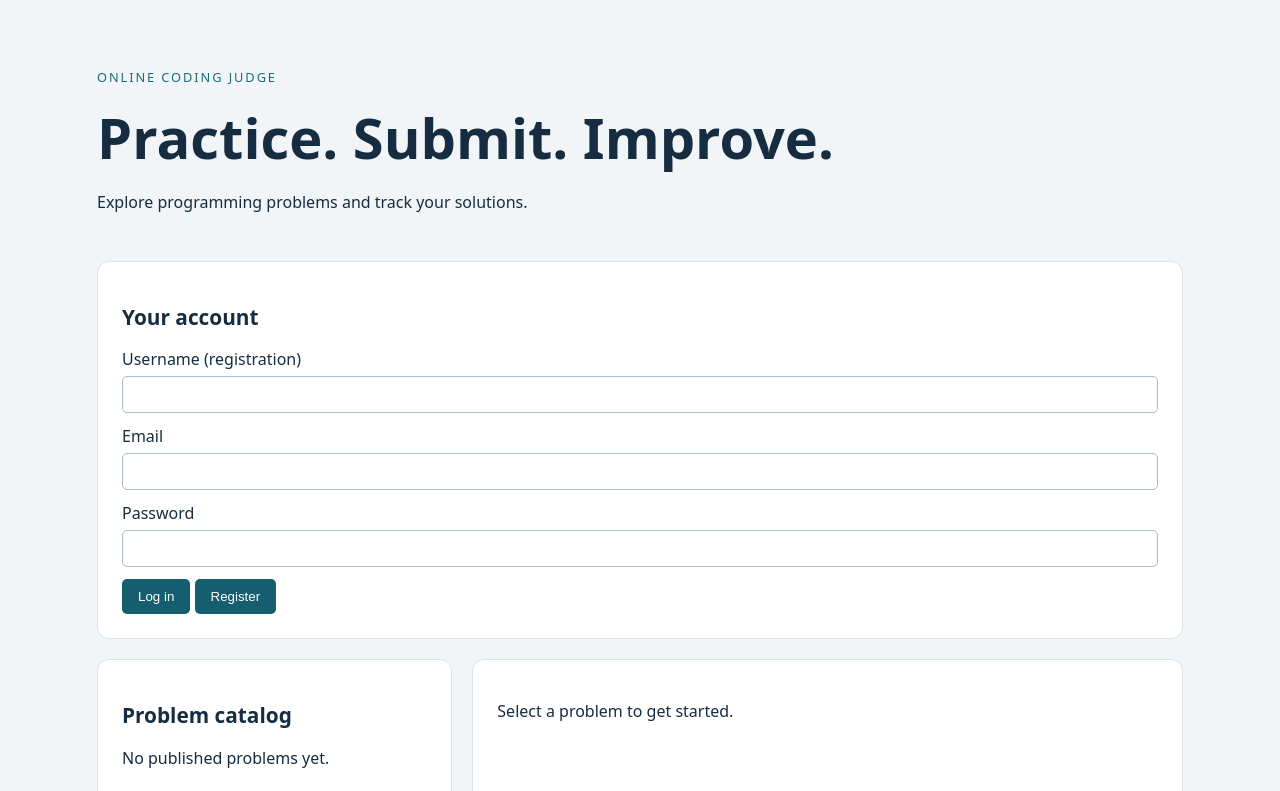
it: streams pending submission updates after login
The width and height of the screenshot is (1280, 791).
Type "alice@example.com" into the field labelled "Email" at (640, 472), box x1=122 y1=453 x2=1158 y2=490
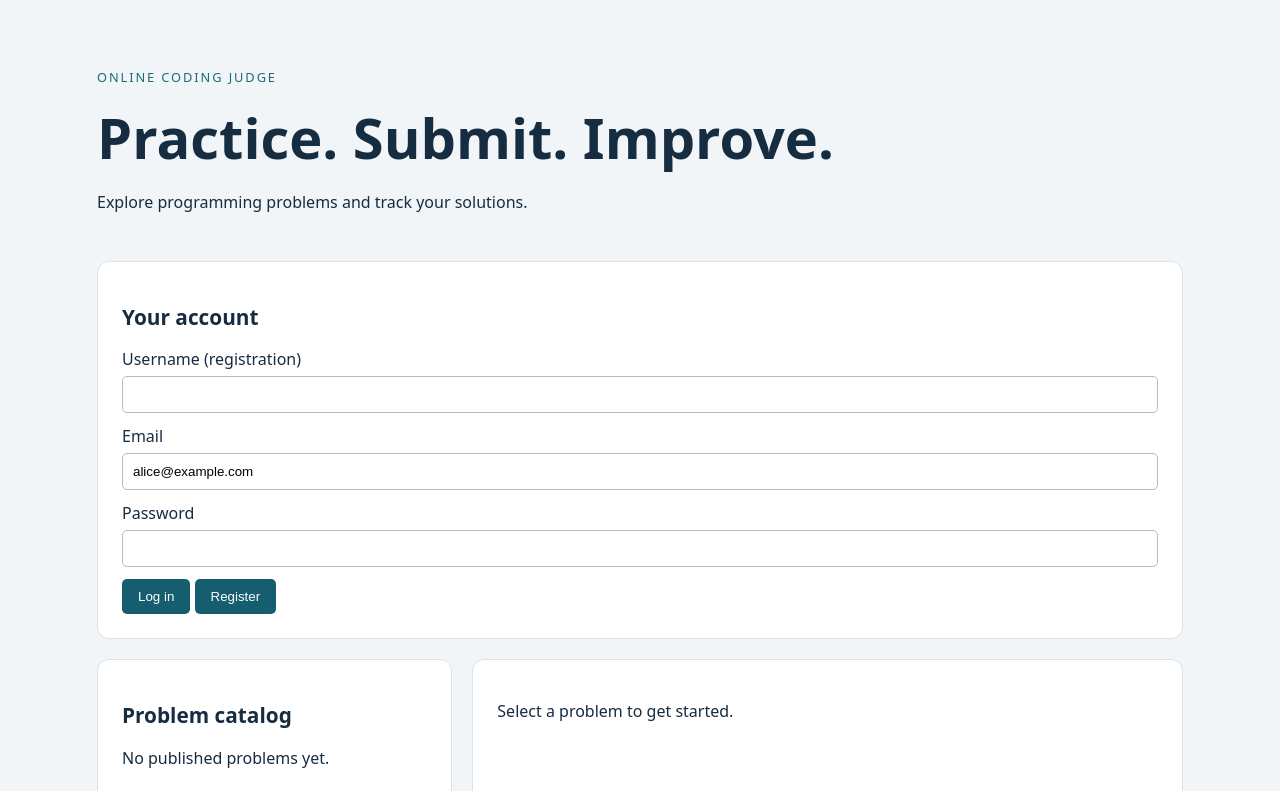
Type "password" into the password field labelled "Password" at (640, 549), box x1=122 y1=530 x2=1158 y2=567
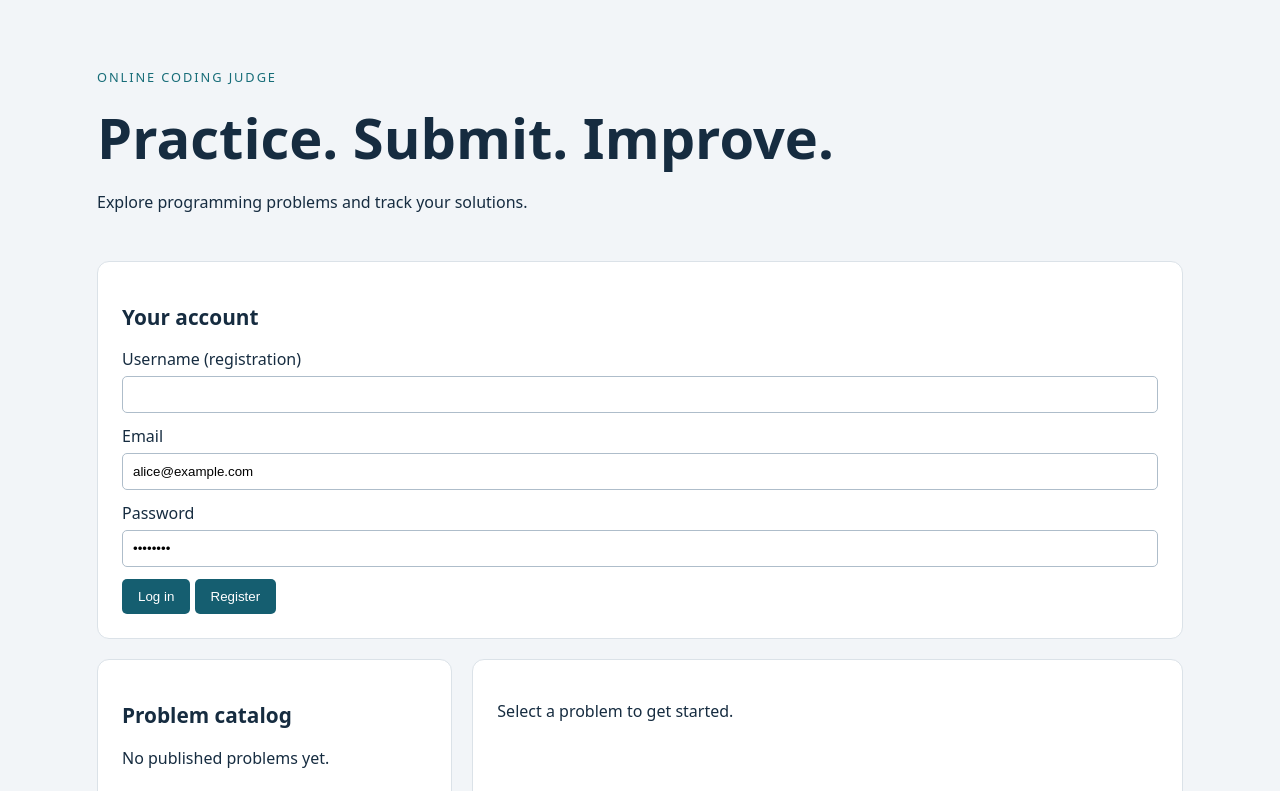
Click the button "Log in" at (156, 597), box x1=122 y1=579 x2=190 y2=614
(page scrolled)
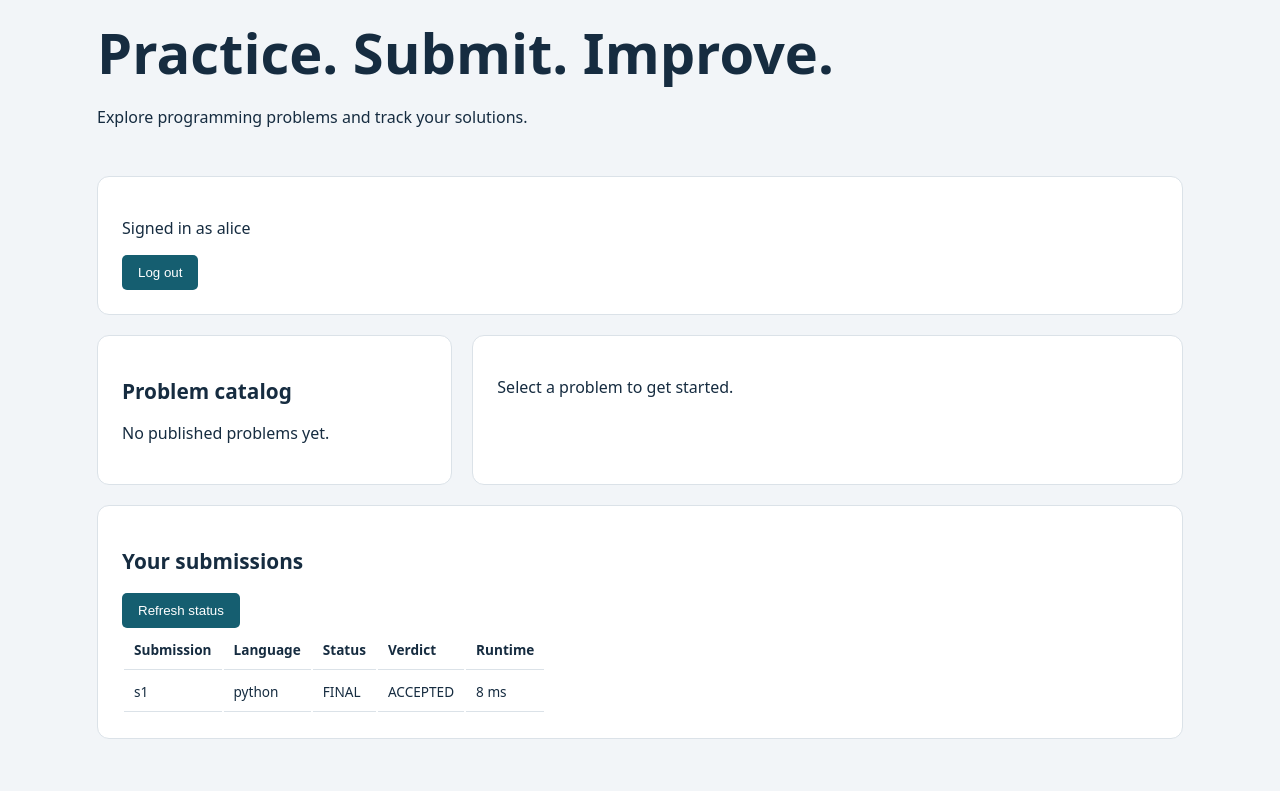
Expected: the text "ACCEPTED" is shown, x1=378 y1=672 x2=464 y2=712
